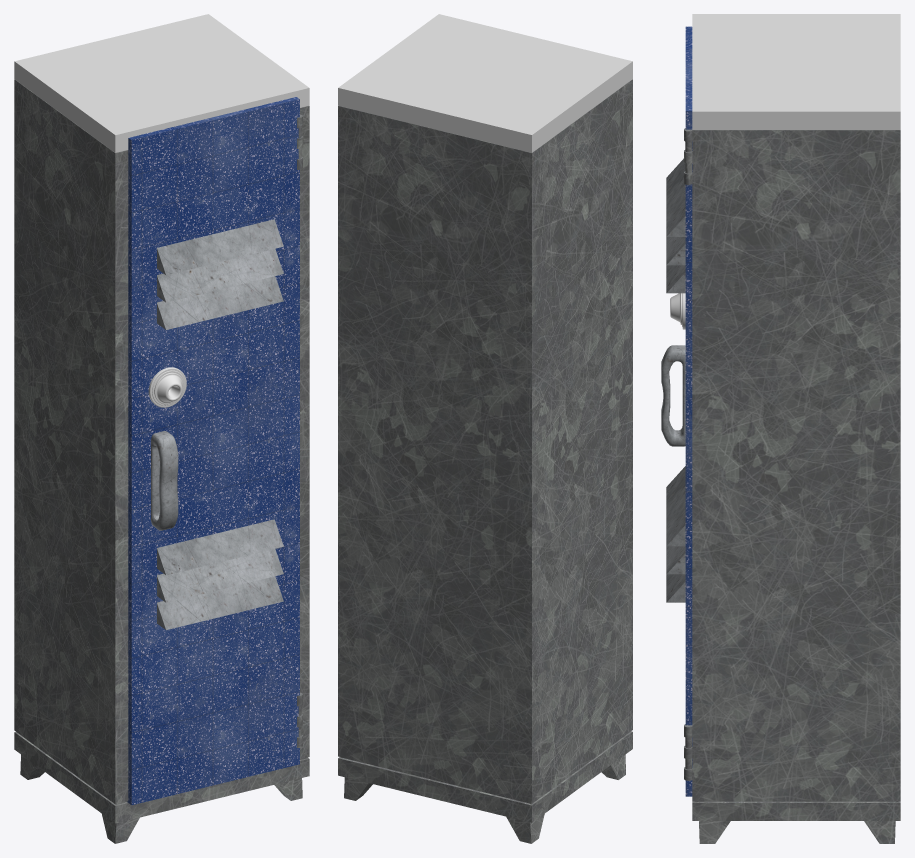
The model's file is locker.glb.
The picture shows the model from 3 angles, left to right: view 1: azimuth 30°, elevation 25°; view 2: azimuth 150°, elevation 25°; view 3: azimuth 270°, elevation 25°; orthographic projection. The views are drawn at different scales.
Parts seen in each view (by area): view 1: Cube_1, Locker_0; view 2: Locker_0; view 3: Locker_0, Cube_1.
Part boxes in pixels (bbox=[...]): Cube_1: bbox=[127, 97, 299, 805]; Locker_0: bbox=[14, 14, 309, 843]; Locker_0: bbox=[338, 14, 632, 843]; Locker_0: bbox=[684, 14, 900, 843]; Cube_1: bbox=[661, 26, 692, 796].
Size of the model in its own units: 0.6816 by 2.39 by 0.7054.
4 materials, 3 textured.
